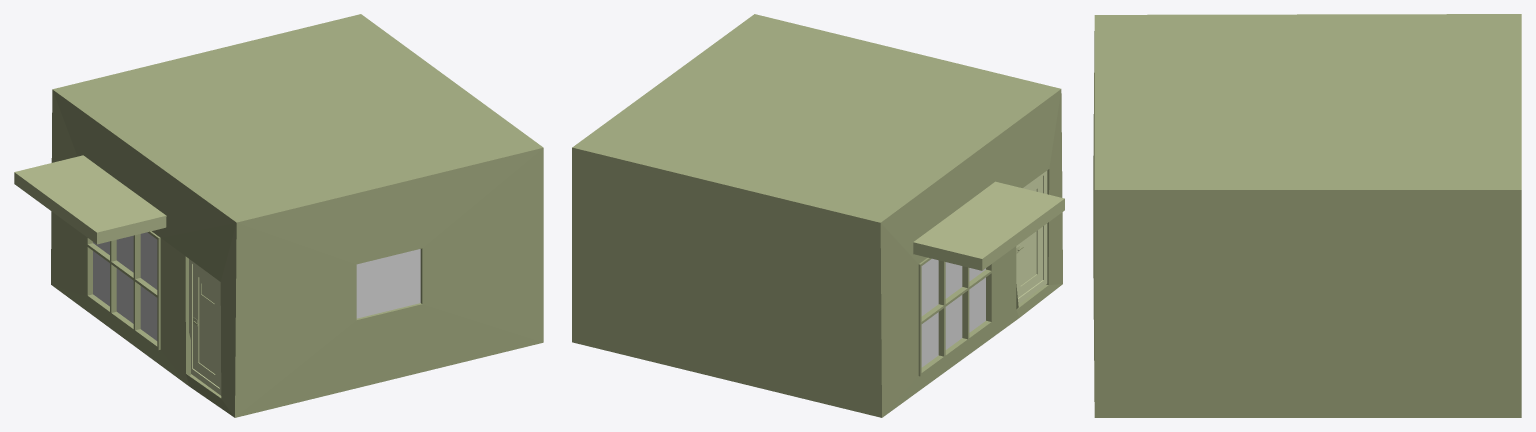
The model's file is Cafe_1.fbx.
The picture shows the model from 3 angles, left to right: view 1: azimuth 30°, elevation 25°; view 2: azimuth 150°, elevation 25°; view 3: azimuth 270°, elevation 25°; orthographic projection. The views are drawn at different scales.
Visible parts, largest first — view 1: Cafe_1, Cafe_1_Window, Cafe_1_Door, Cafe_1_Window.001; view 2: Cafe_1, Cafe_1_Window, Cafe_1_Door; view 3: Cafe_1.
Boxes of the visible parts, x1,y1,x2,y2 form: Cafe_1: [14, 14, 543, 417]; Cafe_1_Window: [87, 232, 157, 340]; Cafe_1_Door: [189, 259, 221, 395]; Cafe_1_Window.001: [356, 249, 420, 318]; Cafe_1: [572, 14, 1064, 417]; Cafe_1_Window: [921, 258, 991, 367]; Cafe_1_Door: [1016, 170, 1047, 304]; Cafe_1: [1093, 14, 1521, 417].
Size of the model in its own units: 645 by 319 by 540.
